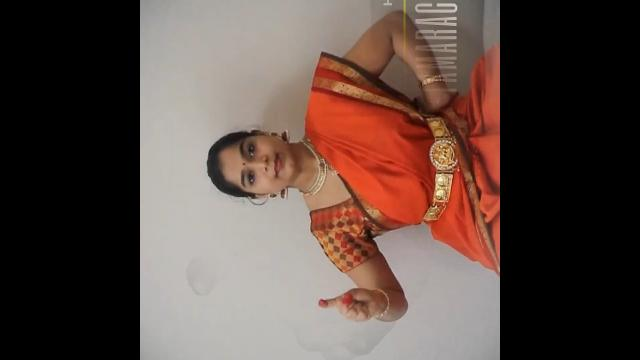tamrachud: (290, 260, 428, 354)
